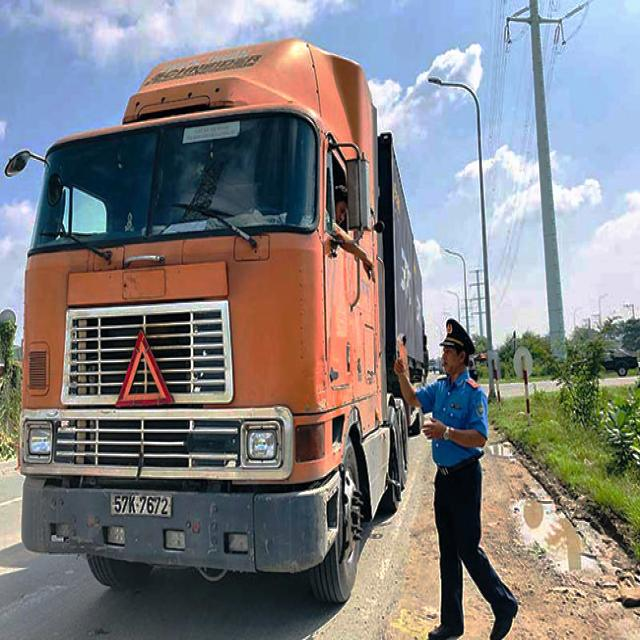license_plate: (111, 492, 173, 518)
